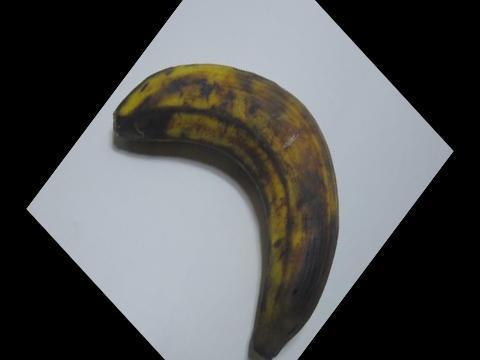overripe: (97, 48, 356, 359)
rotten: (238, 222, 337, 353)
